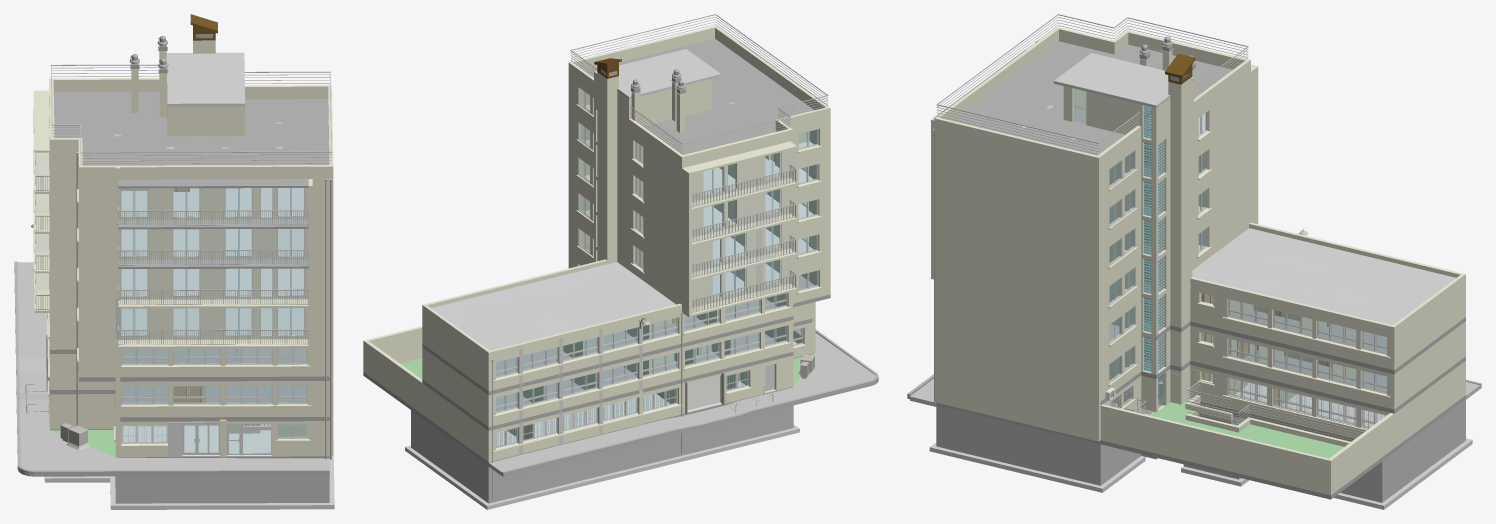
Rendered from MAP.glb.
3 renders of one model, left to right at view 1: azimuth 30°, elevation 25°; view 2: azimuth 150°, elevation 25°; view 3: azimuth 270°, elevation 25°, orthographic. The views are drawn at different scales.
Parts seen in each view (by area): view 1: 2bFMCFmkj1kfWO5Lvqt__E, 1zCZNx5CT1i8Y9$_dU9fMm, 0dWoULYUH3zPg8qJ$TnRTP, 0dWoULYUH3zPg8qJhTnRTP, 0dWoULYUH3zPg8qJpTnRTP, 0dWoULYUH3zPg8qJtTnRTP, 0dWoULYUH3zPg8sJxTnRgm, 0dWoULYUH3zPg8qJlTnRTP, 313IdYHbv0JwPbnB6B727$, 0JJqPutQD7fgEmZfe5WIOV, 0dWoULYUH3zPg8qJZTnRTP, 04Zj82bz96WhfKErdD6QSF (+77 smaller); view 2: 1IQJpSU49DlPKPMYhdab44, 2bFMCFmkj1kfWO5Lvqt__E, 1T2hYTZj1EsBZaf4hQmbXu, 3RLTfSMBXE_BWgA7WbvgjJ, 04Zj82bz96WhfKErdD6QSF, 1T2hYTZj1EsBZaf4hQmbWV, 313IdYHbv0JwPbnB6B727$, 0JJqPutQD7fgEmZfe5WIOV, 2QdDmV0TrDCeyB2Uhxt6rB, 34YWoH0WT4GQc$ARBHEUIX, 0dWoULYUH3zPg8sJxTnRUj, 0JJqPutQD7fgEmZfq5WIOV (+66 smaller); view 3: 1IQJpSU49DlPKPMYhdab44, 2bFMCFmkj1kfWO5Lvqt__E, 3RLTfSMBXE_BWgA7Wbvgs$, 1zCZNx5CT1i8Y9$_dU9fLy, 321EIHH0v8KOO2s9NjdAGp, 321EIHH0v8KOO2s9RjdAGp, 321EIHH0v8KOO2s93jdAGp, 321EIHH0v8KOO2s97jdAGp, 321EIHH0v8KOO2s9JjdAGp, 321EIHH0v8KOO2s9FjdAGp, 321EIHH0v8KOO2s9BjdAGp, 3RLTfSMBXE_BWgA7WbvgjJ (+44 smaller).
Part boxes in pixels (x1=…): 2bFMCFmkj1kfWO5Lvqt__E: x1=53, y1=92, x2=329, y2=165; 1zCZNx5CT1i8Y9$_dU9fMm: x1=115, y1=476, x2=325, y2=503; 0dWoULYUH3zPg8qJ$TnRTP: x1=83, y1=337, x2=329, y2=377; 0dWoULYUH3zPg8qJhTnRTP: x1=83, y1=218, x2=329, y2=258; 0dWoULYUH3zPg8qJpTnRTP: x1=83, y1=297, x2=329, y2=337; 0dWoULYUH3zPg8qJtTnRTP: x1=83, y1=258, x2=329, y2=298; 0dWoULYUH3zPg8sJxTnRgm: x1=120, y1=381, x2=329, y2=417; 0dWoULYUH3zPg8qJlTnRTP: x1=83, y1=179, x2=329, y2=219; 313IdYHbv0JwPbnB6B727$: x1=166, y1=52, x2=245, y2=106; 0JJqPutQD7fgEmZfe5WIOV: x1=19, y1=399, x2=115, y2=470; 0dWoULYUH3zPg8qJZTnRTP: x1=83, y1=165, x2=329, y2=179; 04Zj82bz96WhfKErdD6QSF: x1=50, y1=64, x2=331, y2=164; 1IQJpSU49DlPKPMYhdab44: x1=431, y1=262, x2=675, y2=350; 2bFMCFmkj1kfWO5Lvqt__E: x1=585, y1=38, x2=813, y2=154; 1T2hYTZj1EsBZaf4hQmbXu: x1=491, y1=405, x2=793, y2=502; 3RLTfSMBXE_BWgA7WbvgjJ: x1=365, y1=341, x2=486, y2=460; 04Zj82bz96WhfKErdD6QSF: x1=570, y1=14, x2=828, y2=153; 1T2hYTZj1EsBZaf4hQmbWV: x1=411, y1=410, x2=491, y2=503; 313IdYHbv0JwPbnB6B727$: x1=594, y1=49, x2=721, y2=99; 0JJqPutQD7fgEmZfe5WIOV: x1=738, y1=348, x2=875, y2=410; 2QdDmV0TrDCeyB2Uhxt6rB: x1=642, y1=282, x2=790, y2=353; 34YWoH0WT4GQc$ARBHEUIX: x1=496, y1=245, x2=814, y2=376; 0dWoULYUH3zPg8sJxTnRUj: x1=422, y1=309, x2=486, y2=389; 0JJqPutQD7fgEmZfq5WIOV: x1=488, y1=420, x2=674, y2=475; 1IQJpSU49DlPKPMYhdab44: x1=1190, y1=228, x2=1455, y2=325; 2bFMCFmkj1kfWO5Lvqt__E: x1=952, y1=41, x2=1232, y2=155; 3RLTfSMBXE_BWgA7Wbvgs$: x1=1100, y1=404, x2=1332, y2=495; 1zCZNx5CT1i8Y9$_dU9fLy: x1=936, y1=405, x2=1102, y2=485; 321EIHH0v8KOO2s9NjdAGp: x1=934, y1=324, x2=1100, y2=402; 321EIHH0v8KOO2s9RjdAGp: x1=934, y1=363, x2=1100, y2=441; 321EIHH0v8KOO2s93jdAGp: x1=934, y1=130, x2=1100, y2=208; 321EIHH0v8KOO2s97jdAGp: x1=934, y1=169, x2=1100, y2=247; 321EIHH0v8KOO2s9JjdAGp: x1=934, y1=285, x2=1100, y2=363; 321EIHH0v8KOO2s9FjdAGp: x1=934, y1=246, x2=1100, y2=324; 321EIHH0v8KOO2s9BjdAGp: x1=934, y1=208, x2=1100, y2=285; 3RLTfSMBXE_BWgA7WbvgjJ: x1=1329, y1=362, x2=1463, y2=493.
Size of the model in its own units: 32.77 by 28.19 by 37.66.
